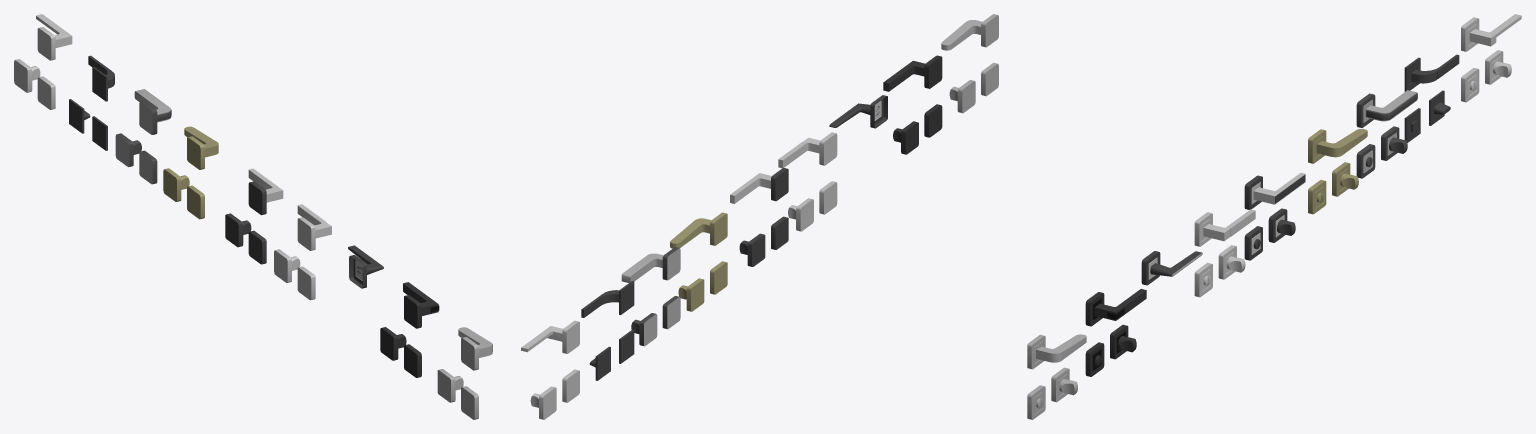
File: Monako_Brnak.fbx
The picture shows the model from 3 angles, left to right: view 1: azimuth 30°, elevation 25°; view 2: azimuth 150°, elevation 25°; view 3: azimuth 330°, elevation 25°; orthographic projection. The views are drawn at different scales.
Visible parts, largest first — view 1: 7, 5, 4, Cube.001, 11, 6, Cube, 5.001, 3; view 2: 7, Cube, 6, Cube.001, 4, 5, 11, 5.001, 3; view 3: 7, Cube.001, Cube, 6, 5, 4, 11, 5.001, 3.
Boxes of the visible parts, x1,y1,x2,y2 form: 7: [115, 89, 171, 184]; 5: [225, 168, 283, 264]; 4: [274, 204, 331, 300]; Cube.001: [380, 282, 439, 377]; 11: [14, 14, 72, 109]; 6: [163, 126, 218, 219]; Cube: [437, 327, 492, 419]; 5.001: [69, 55, 114, 150]; 3: [348, 245, 383, 288]; 7: [621, 247, 680, 346]; Cube: [941, 14, 998, 113]; 6: [670, 212, 727, 311]; Cube.001: [883, 55, 942, 154]; 4: [778, 132, 837, 231]; 5: [730, 168, 788, 266]; 11: [521, 320, 579, 419]; 5.001: [581, 281, 634, 380]; 3: [829, 95, 887, 128]; 7: [1356, 90, 1417, 178]; Cube.001: [1085, 289, 1146, 376]; Cube: [1027, 334, 1086, 419]; 6: [1308, 129, 1367, 214]; 5: [1244, 172, 1305, 260]; 4: [1194, 209, 1255, 297]; 11: [1461, 14, 1521, 102]; 5.001: [1404, 54, 1459, 142]; 3: [1141, 251, 1202, 285].
Size of the model in its own units: 3.2 by 8.72 by 98.6.
